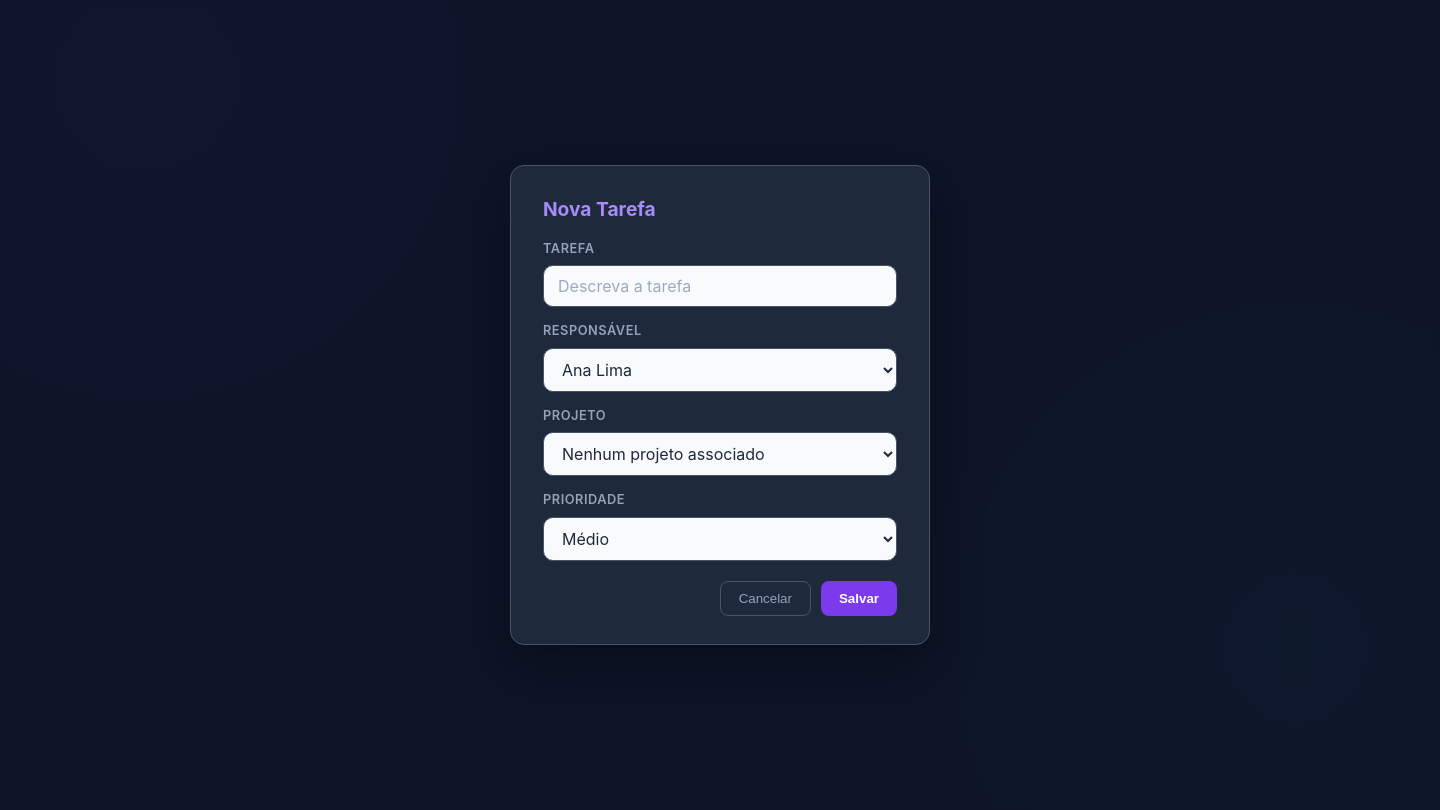
Scenario: ModalTarefa › a API recusa: mostra os erros e não fecha
The width and height of the screenshot is (1440, 810).
Type "Teste erro API" into the field labelled "Tarefa". click: {"x": 720, "y": 286}
box: [543,265,897,307]
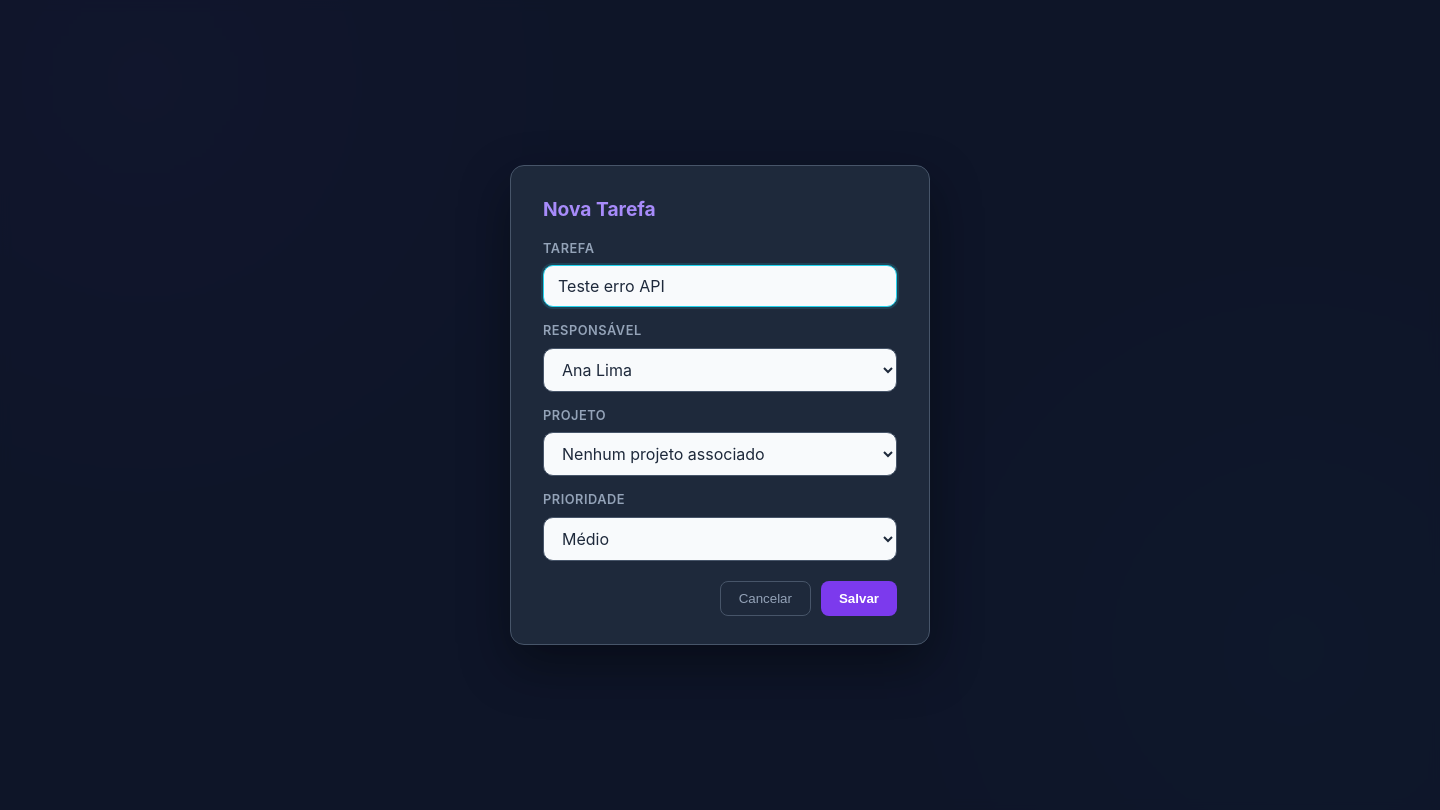
Click the button "Salvar". click: {"x": 859, "y": 598}
box: [821,581,897,616]
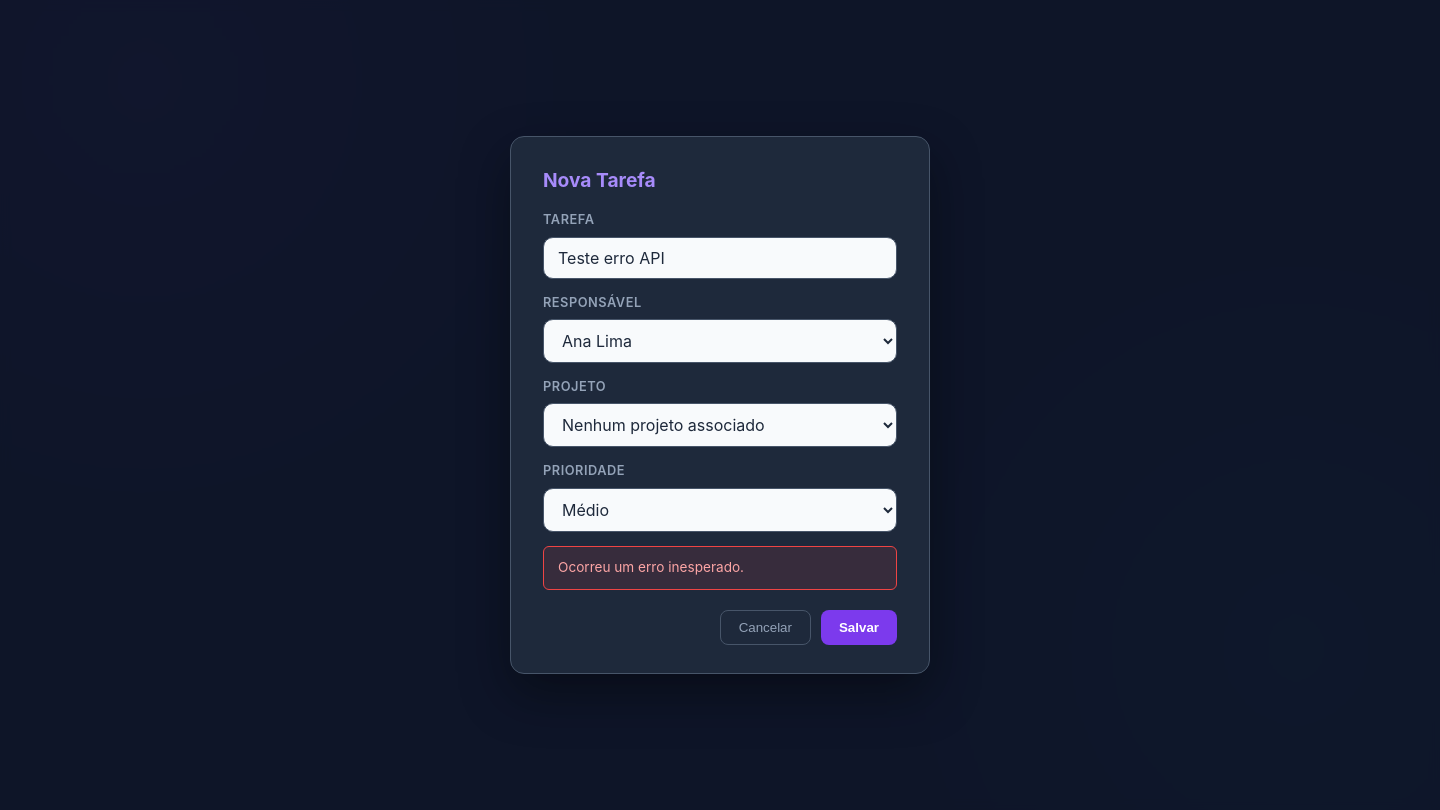
Expected: the list item "Ocorreu um erro inesperado." is shown, [558,559,744,575]
